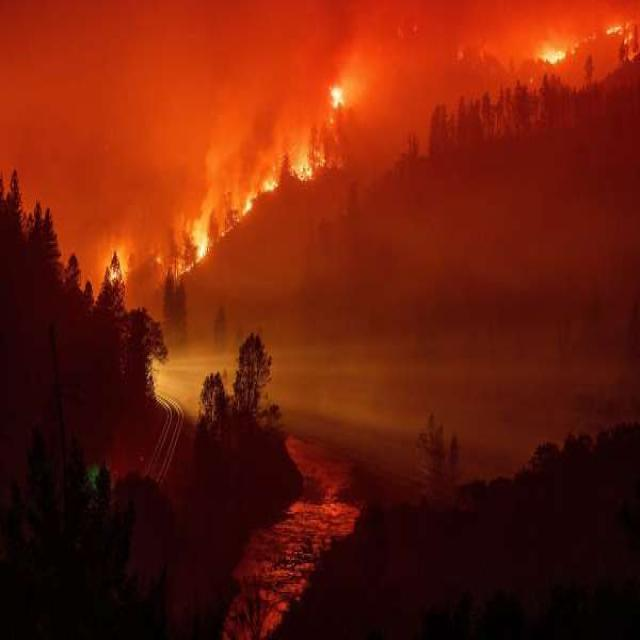Fire: (168, 216, 215, 278), (294, 122, 328, 182), (603, 15, 636, 60), (103, 237, 129, 284), (536, 36, 576, 63), (326, 80, 348, 116), (148, 241, 165, 283), (262, 163, 282, 196), (218, 214, 242, 236), (240, 192, 254, 216)
Smoke: (0, 0, 323, 141), (324, 0, 536, 80), (20, 141, 246, 205), (348, 79, 429, 157), (57, 207, 194, 244), (536, 0, 602, 40)
